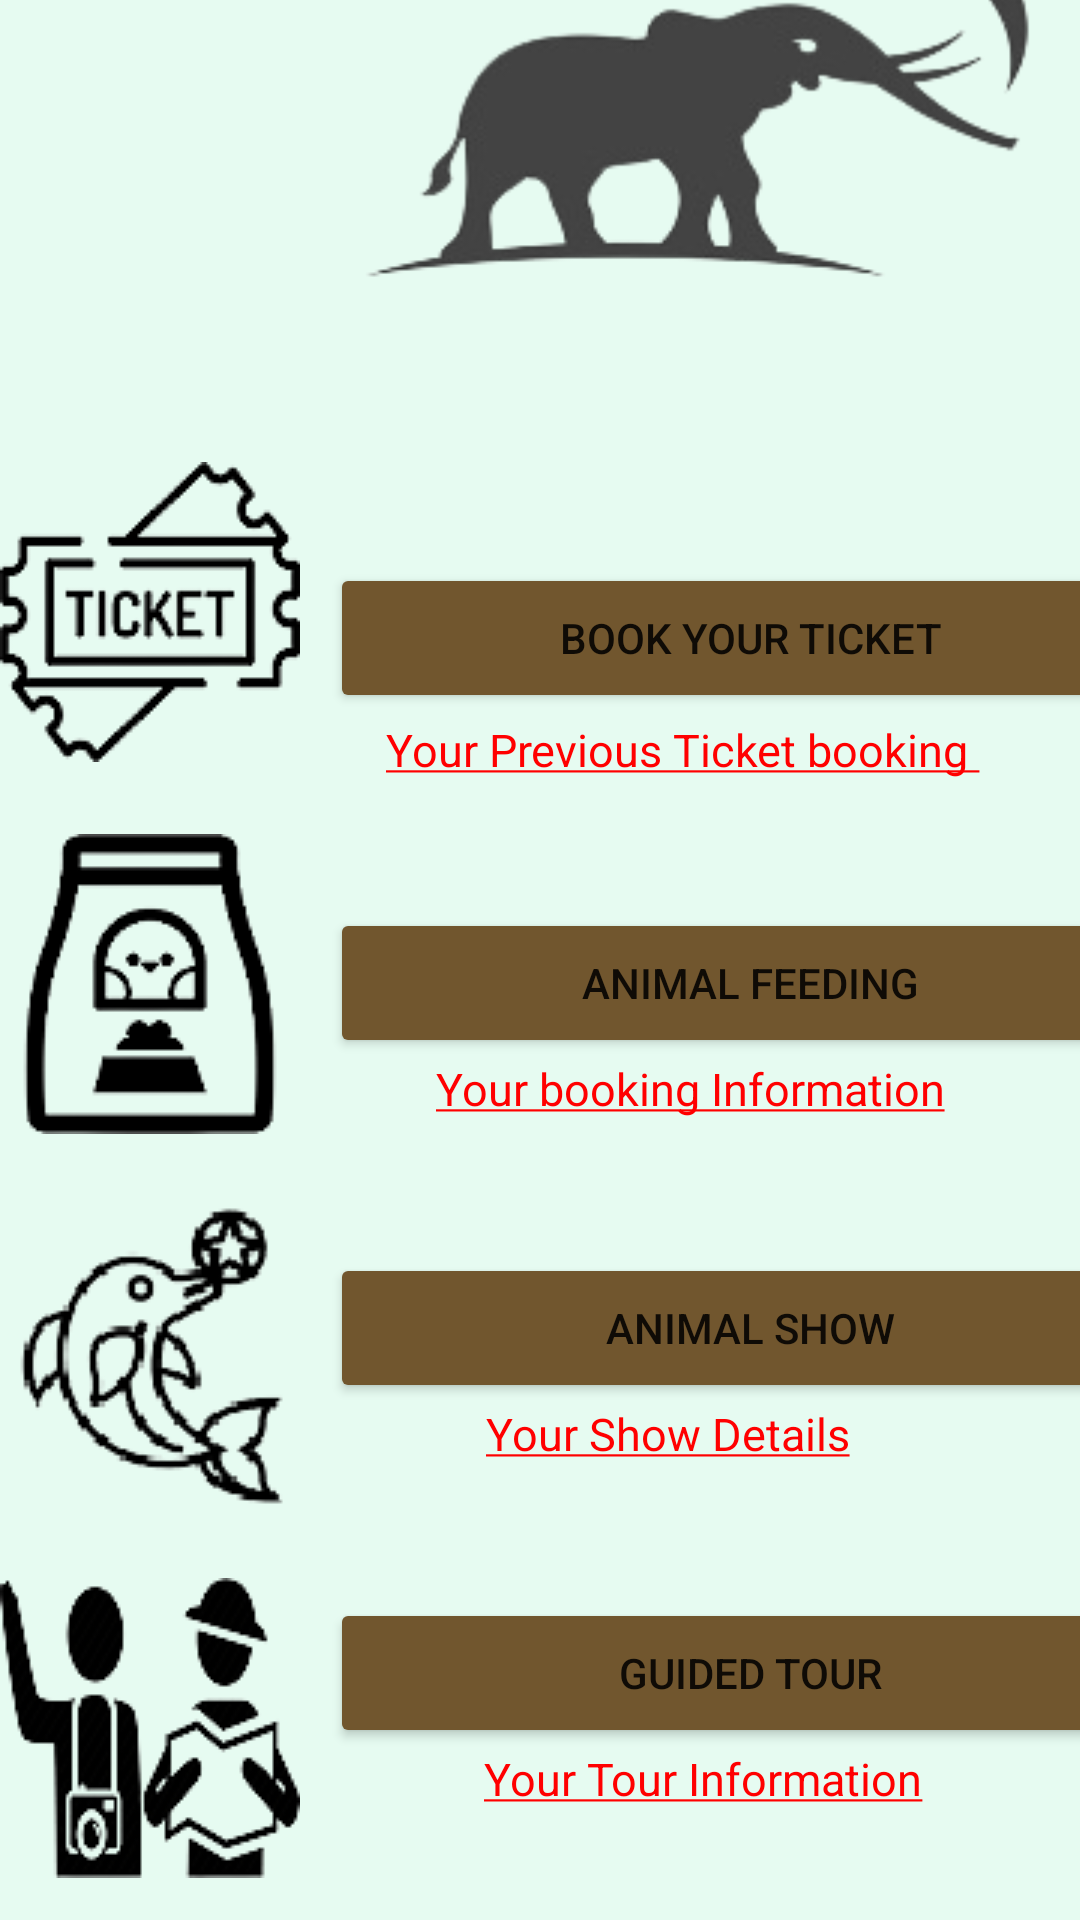

Named icons in this screenshot (1080×1920) and their centers, [x,y]:
tour guide: [150,1728]
